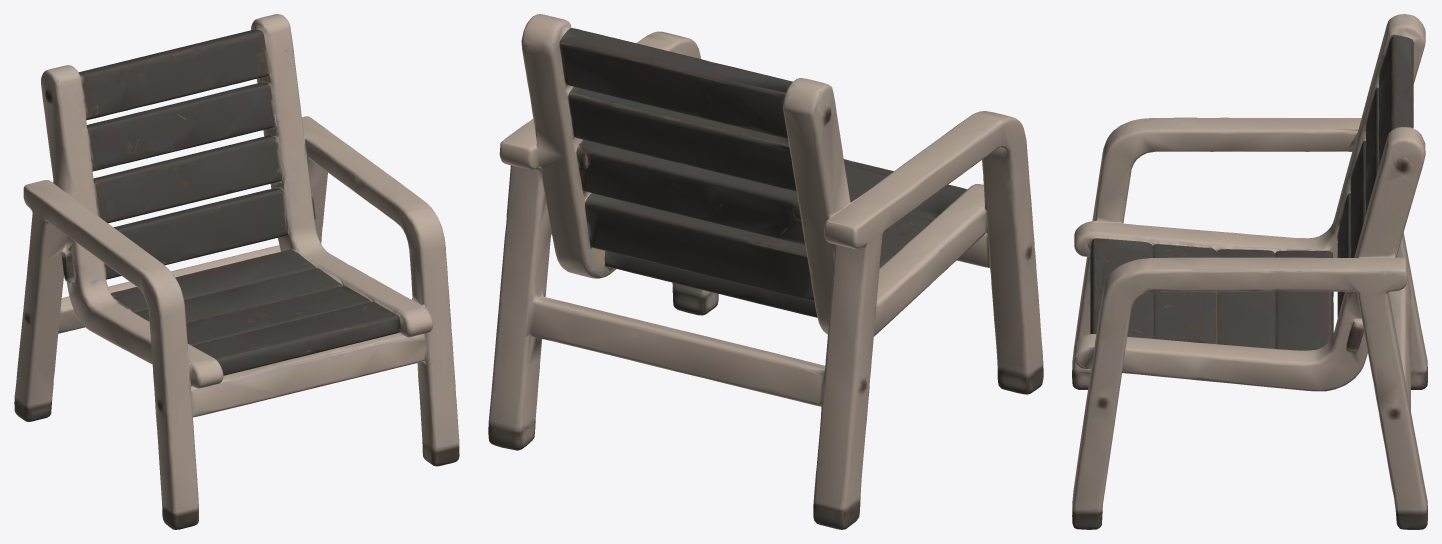
File: outdoor_chair.glb
3 views of the same model, side by side, from view 1: azimuth 30°, elevation 25°; view 2: azimuth 150°, elevation 25°; view 3: azimuth 270°, elevation 25° (orthographic). The views are drawn at different scales.
Parts seen in each view (by area): view 1: geometry_0; view 2: geometry_0; view 3: geometry_0.
Boxes of the visible parts, x1=… form: geometry_0: x1=14, y1=14, x2=459, y2=529; geometry_0: x1=488, y1=14, x2=1043, y2=529; geometry_0: x1=1072, y1=14, x2=1427, y2=529.
Bounding box in the file's own units: 0.8807 × 1 × 0.8548.
1 material, 1 textured.
